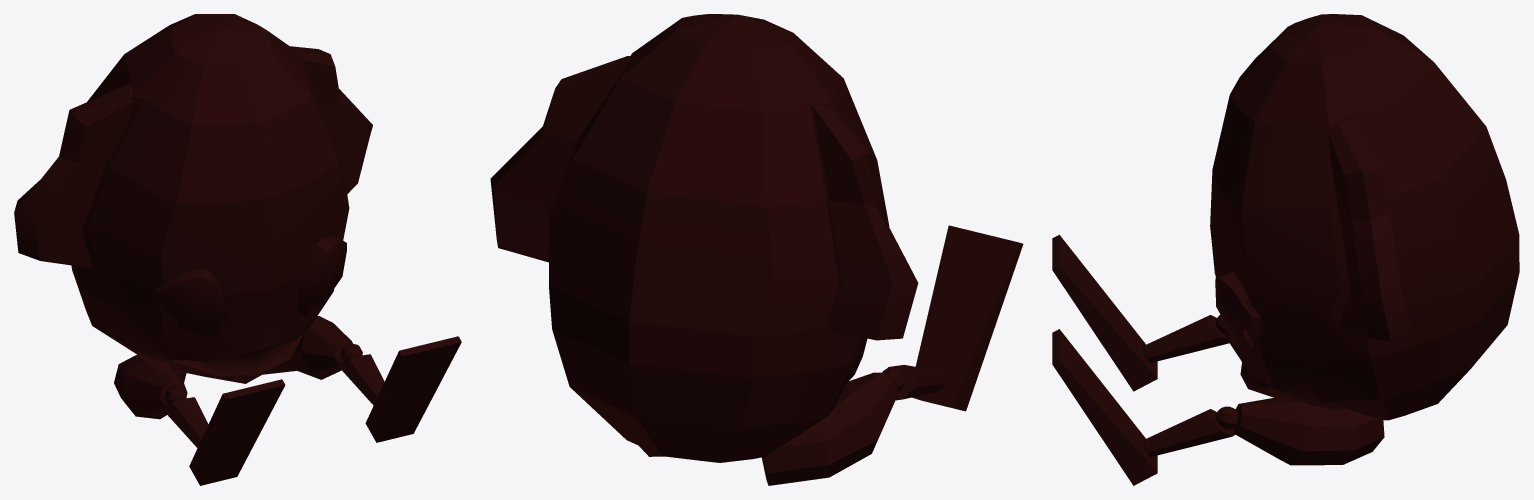
Rendered from sadboi2.fbx.
3 views of the same model, side by side, from view 1: azimuth 30°, elevation 25°; view 2: azimuth 150°, elevation 25°; view 3: azimuth 270°, elevation 25° (orthographic). The views are drawn at different scales.
Parts seen in each view (by area): view 1: egg_minion3; view 2: egg_minion3; view 3: egg_minion3.
Boxes of the visible parts, x1,y1,x2,y2 form: egg_minion3: [14, 14, 461, 485]; egg_minion3: [490, 14, 1023, 485]; egg_minion3: [1052, 14, 1519, 485].
Size of the model in its own units: 22.97 by 22.55 by 23.62.
